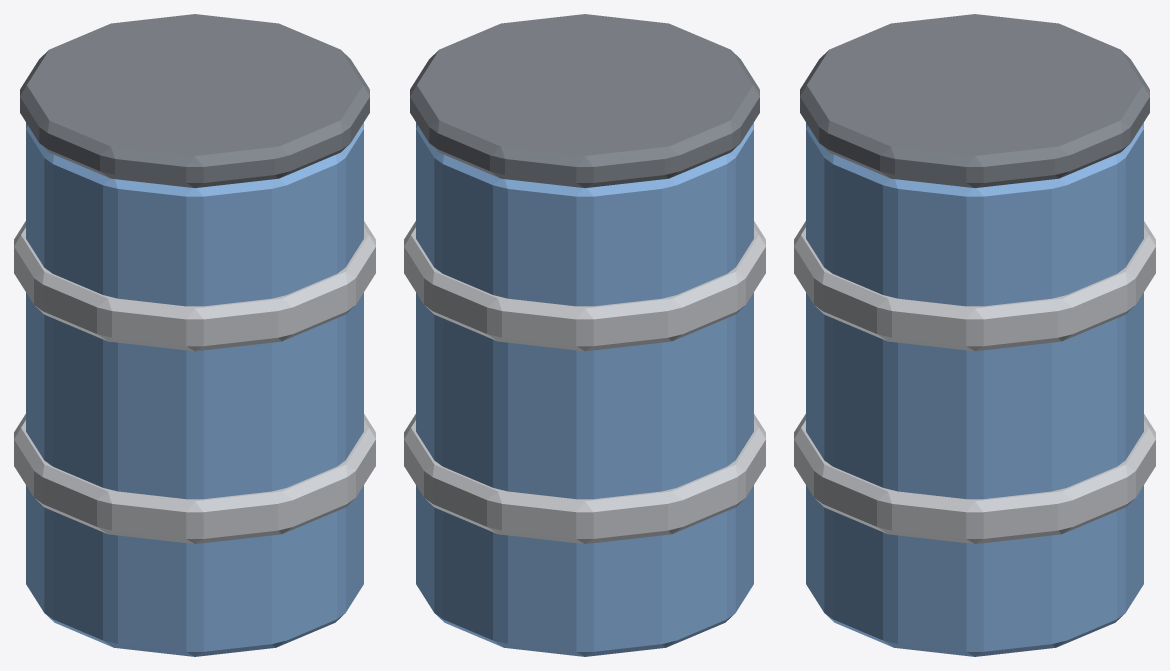
3 views of the same model, side by side, from view 1: azimuth 30°, elevation 25°; view 2: azimuth 150°, elevation 25°; view 3: azimuth 270°, elevation 25° (orthographic).
Parts seen in each view (by area): view 1: 桶身.001, 顶盖.005, 桶箍; view 2: 桶身.001, 顶盖.005, 桶箍; view 3: 桶身.001, 顶盖.005, 桶箍.
Part boxes in pixels (x1,y1,x2,y2): 桶身.001: [26, 122, 363, 656]; 顶盖.005: [20, 14, 369, 187]; 桶箍: [14, 221, 375, 543]; 桶身.001: [416, 122, 753, 656]; 顶盖.005: [410, 14, 759, 187]; 桶箍: [404, 221, 765, 543]; 桶身.001: [806, 122, 1143, 656]; 顶盖.005: [800, 14, 1149, 187]; 桶箍: [794, 221, 1155, 543].
Bounding box in the file's own units: 61.22 × 94 × 61.22.
